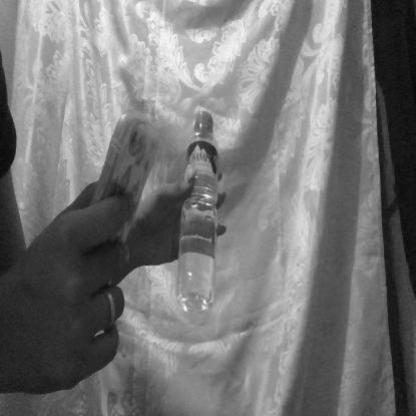Plastic Bottle: (166, 86, 244, 346)
